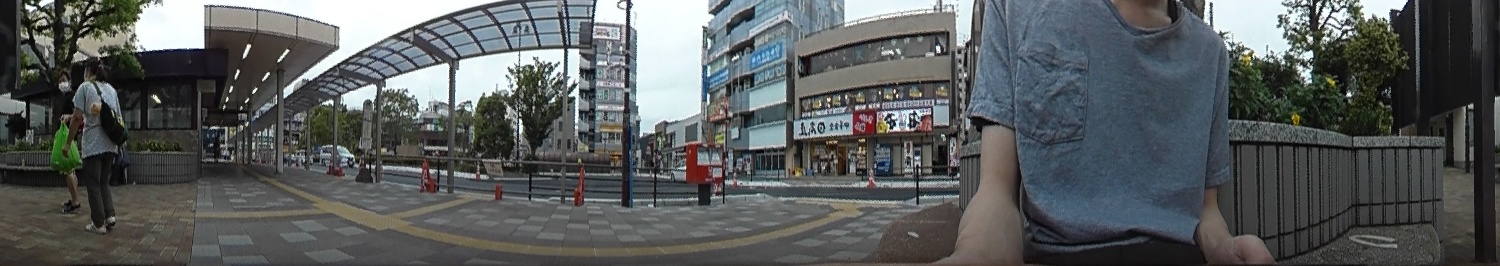difficult_person: (211, 131, 222, 165)
person: (69, 61, 124, 234), (52, 71, 83, 209)
